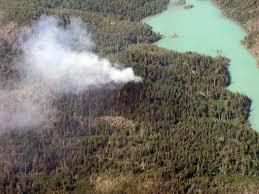yanwu: (0, 13, 142, 130)
